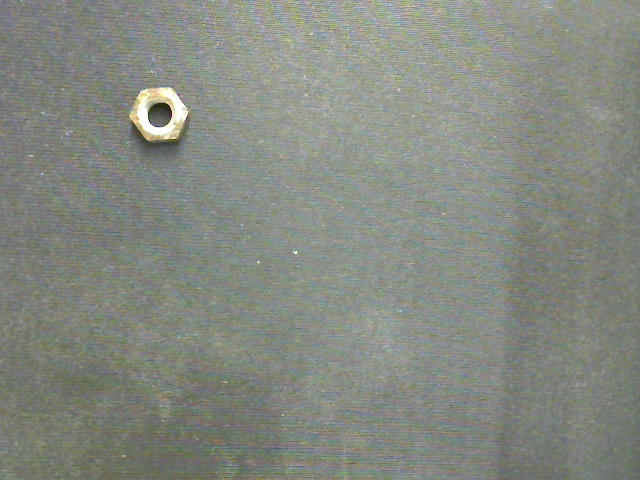Nut: (128, 86, 190, 142)
